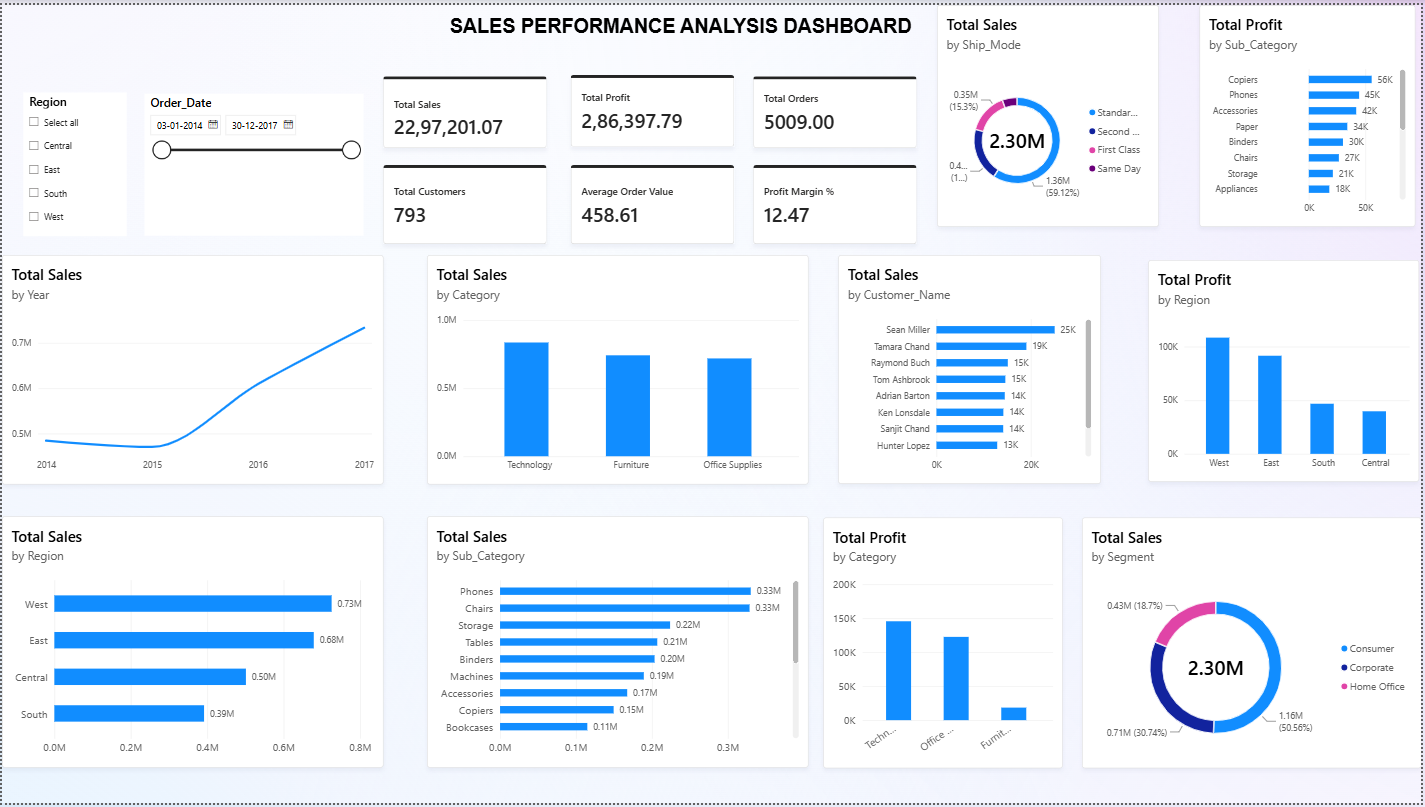

This screenshot's page, from the dashboard's own definition file:
{"tool":"powerbi","page":{"name":"Page 1","canvas":[1920,1080],"ordinal":0},"visuals":[{"type":"cardVisual","fields":{"Data":["salesanalysisdb salesdata.Total Profit"]},"box":[255.8,95.8,221.7,97.5],"z":0},{"type":"cardVisual","fields":{"Data":["salesanalysisdb salesdata.Total Sales"]},"box":[0,95.8,221.7,97.5],"z":1000},{"type":"cardVisual","fields":{"Data":["salesanalysisdb salesdata.Total Orders"]},"box":[515.8,95.8,221.7,97.5],"z":2000},{"type":"cardVisual","fields":{"Data":["salesanalysisdb salesdata.Profit Margin %"]},"box":[515.8,216.7,221.7,107.5],"z":3000},{"type":"cardVisual","fields":{"Data":["salesanalysisdb salesdata.Total Customers"]},"box":[0,216.7,221.7,107.5],"z":4000},{"type":"cardVisual","fields":{"Data":["salesanalysisdb salesdata.Average Order Value"]},"box":[255.8,216.7,221.7,107.5],"z":5000},{"type":"lineChart","fields":{"Category":["salesanalysisdb salesdata.Order_Date.Variation.Date Hierarchy.Year"],"Y":["salesanalysisdb salesdata.Total Sales"]},"box":[0,338,516,310],"z":6000},{"type":"clusteredBarChart","fields":{"Category":["salesanalysisdb salesdata.Region"],"Y":["salesanalysisdb salesdata.Total Sales"]},"box":[0,692,516,340],"z":7000},{"type":"clusteredColumnChart","fields":{"Category":["salesanalysisdb salesdata.Category"],"Y":["salesanalysisdb salesdata.Total Sales"]},"box":[574,338,516,310],"z":8000},{"type":"clusteredColumnChart","fields":{"Category":["salesanalysisdb salesdata.Category"],"Y":["salesanalysisdb salesdata.Total Profit"]},"box":[1111.1,692.6,324.1,338.9],"z":9000},{"type":"clusteredBarChart","fields":{"Category":["salesanalysisdb salesdata.Sub_Category"],"Y":["salesanalysisdb salesdata.Total Sales"]},"box":[574,692,516,340],"z":10000},{"type":"donutChart","fields":{"Category":["salesanalysisdb salesdata.Segment"],"Y":["salesanalysisdb salesdata.Total Sales"]},"box":[1461.1,692.6,459.3,338.9],"z":11000},{"type":"clusteredColumnChart","fields":{"Category":["salesanalysisdb salesdata.Region"],"Y":["salesanalysisdb salesdata.Total Profit"]},"box":[1550,344.4,366.7,300],"z":12000},{"type":"donutChart","fields":{"Category":["salesanalysisdb salesdata.Ship_Mode"],"Y":["salesanalysisdb salesdata.Total Sales"]},"box":[1264,0,300,300],"z":13000},{"type":"clusteredBarChart","fields":{"Category":["salesanalysisdb salesdata.Sub_Category"],"Y":["salesanalysisdb salesdata.Total Profit"]},"box":[1620.4,0,292,300],"z":14000},{"type":"slicer","fields":{"Values":["salesanalysisdb salesdata.Region"]},"box":[759.3,13,144,180],"z":15000},{"type":"slicer","fields":{"Values":["salesanalysisdb salesdata.Order_Date"]},"box":[959.3,14.8,214.2,162.5],"z":16000},{"type":"clusteredBarChart","fields":{"Category":["salesanalysisdb salesdata.Customer_Name"],"Y":["salesanalysisdb salesdata.Total Sales"]},"box":[1131.5,338.9,355.6,309.3],"z":17000},{"type":"textbox","box":[51.7,13.3,615,57.5],"z":17001}]}

Visuals, with their boxes in screenshot pixels (x1, y1, x2, y2), scaled from the page's 1920x1080 canvas onto the 1425x807 screenshot:
cardVisual - salesanalysisdb salesdata.Total Profit: (190, 72, 354, 144)
cardVisual - salesanalysisdb salesdata.Total Sales: (0, 72, 165, 144)
cardVisual - salesanalysisdb salesdata.Total Orders: (383, 72, 547, 144)
cardVisual - salesanalysisdb salesdata.Profit Margin %: (383, 162, 547, 242)
cardVisual - salesanalysisdb salesdata.Total Customers: (0, 162, 165, 242)
cardVisual - salesanalysisdb salesdata.Average Order Value: (190, 162, 354, 242)
lineChart - salesanalysisdb salesdata.Order_Date.Variation.Date Hierarchy.Year x salesanalysisdb salesdata.Total Sales: (0, 253, 383, 484)
clusteredBarChart - salesanalysisdb salesdata.Region x salesanalysisdb salesdata.Total Sales: (0, 517, 383, 771)
clusteredColumnChart - salesanalysisdb salesdata.Category x salesanalysisdb salesdata.Total Sales: (426, 253, 809, 484)
clusteredColumnChart - salesanalysisdb salesdata.Category x salesanalysisdb salesdata.Total Profit: (825, 518, 1065, 771)
clusteredBarChart - salesanalysisdb salesdata.Sub_Category x salesanalysisdb salesdata.Total Sales: (426, 517, 809, 771)
donutChart - salesanalysisdb salesdata.Segment x salesanalysisdb salesdata.Total Sales: (1084, 518, 1424, 771)
clusteredColumnChart - salesanalysisdb salesdata.Region x salesanalysisdb salesdata.Total Profit: (1150, 257, 1423, 482)
donutChart - salesanalysisdb salesdata.Ship_Mode x salesanalysisdb salesdata.Total Sales: (938, 0, 1161, 224)
clusteredBarChart - salesanalysisdb salesdata.Sub_Category x salesanalysisdb salesdata.Total Profit: (1203, 0, 1419, 224)
slicer - salesanalysisdb salesdata.Region: (564, 10, 670, 144)
slicer - salesanalysisdb salesdata.Order_Date: (712, 11, 871, 132)
clusteredBarChart - salesanalysisdb salesdata.Customer_Name x salesanalysisdb salesdata.Total Sales: (840, 253, 1104, 484)
textbox: (38, 10, 495, 53)
